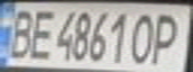1: (106, 8, 133, 64)
4: (51, 6, 75, 62)
6: (87, 7, 115, 63)
8: (69, 7, 93, 62)
B: (0, 4, 39, 61)
E: (24, 4, 57, 61)
O: (127, 8, 163, 65)
P: (145, 8, 190, 66)
